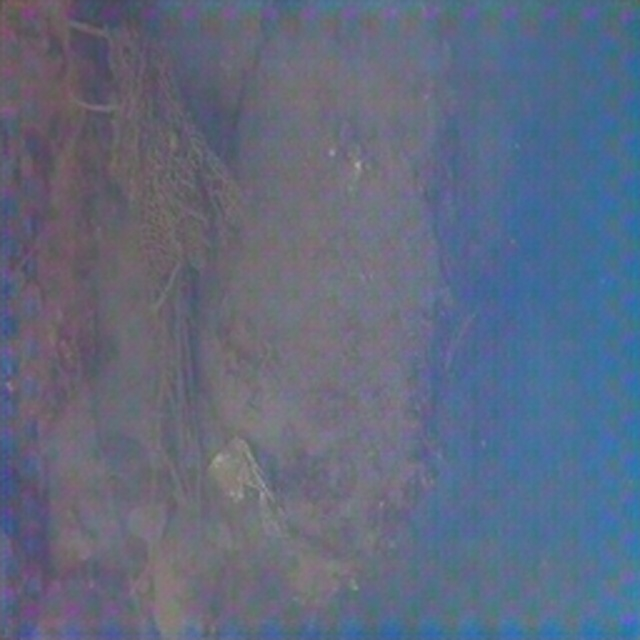mine: (109, 27, 236, 277)
